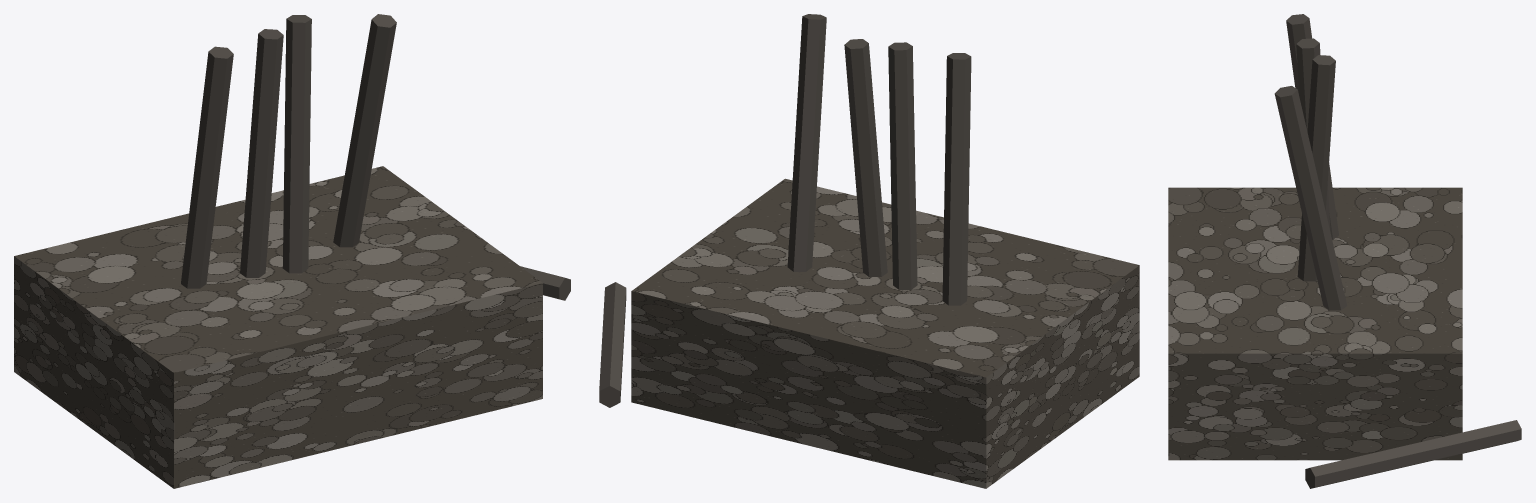
Rendered from nghia-dia-nhang-tan.glb.
3 views of the same model, side by side, from view 1: azimuth 30°, elevation 25°; view 2: azimuth 150°, elevation 25°; view 3: azimuth 270°, elevation 25° (orthographic). The views are drawn at different scales.
Visible parts, largest first — view 1: nghia-dia-nhang-tan; view 2: nghia-dia-nhang-tan; view 3: nghia-dia-nhang-tan.
Boxes of the visible parts, left/top/right/bottom form: nghia-dia-nhang-tan: left=14, top=14, right=570, bottom=488; nghia-dia-nhang-tan: left=599, top=14, right=1139, bottom=488; nghia-dia-nhang-tan: left=1168, top=14, right=1521, bottom=488.
Size of the model in its own units: 0.5167 by 0.3704 by 0.3603.
Materials: 2 (1 with a texture image).
